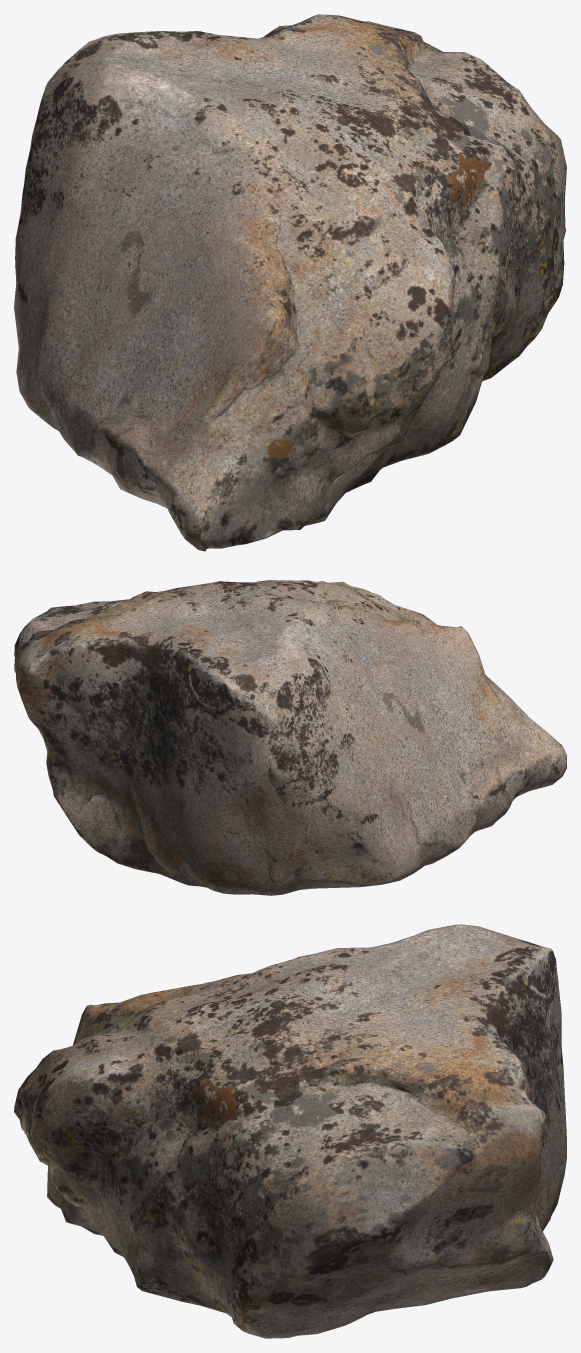
File: wgprcas_tier_2.gltf
3 views of the same model, one above another, from view 1: azimuth 30°, elevation 25°; view 2: azimuth 150°, elevation 25°; view 3: azimuth 270°, elevation 25° (orthographic). The views are drawn at different scales.
Parts seen in each view (by area): view 1: wgprcas_LOD0_TIER2_000; view 2: wgprcas_LOD0_TIER2_000; view 3: wgprcas_LOD0_TIER2_000.
Part boxes in pixels (x1,y1,x2,y2): wgprcas_LOD0_TIER2_000: [14, 14, 566, 551]; wgprcas_LOD0_TIER2_000: [14, 580, 566, 895]; wgprcas_LOD0_TIER2_000: [14, 924, 566, 1338].
Bounding box in the file's own units: 1.64 × 0.9266 × 1.54.
1 material, 1 textured.
